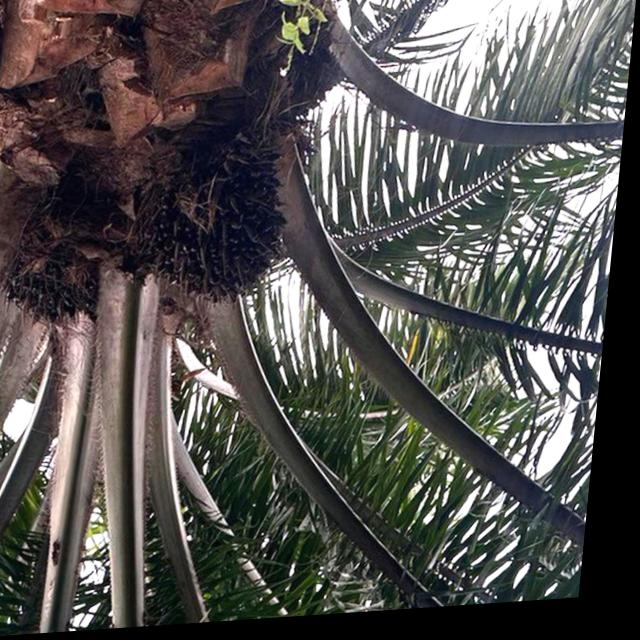ripe: (115, 131, 315, 332)
